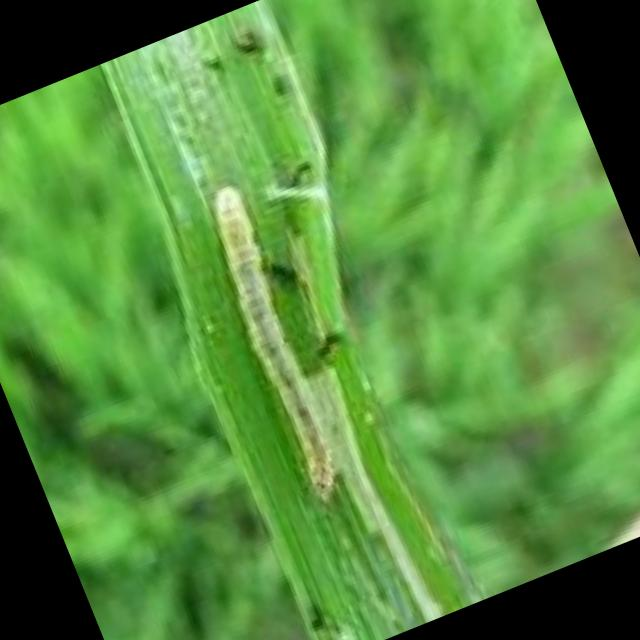leaf-folder: (154, 155, 384, 530)
